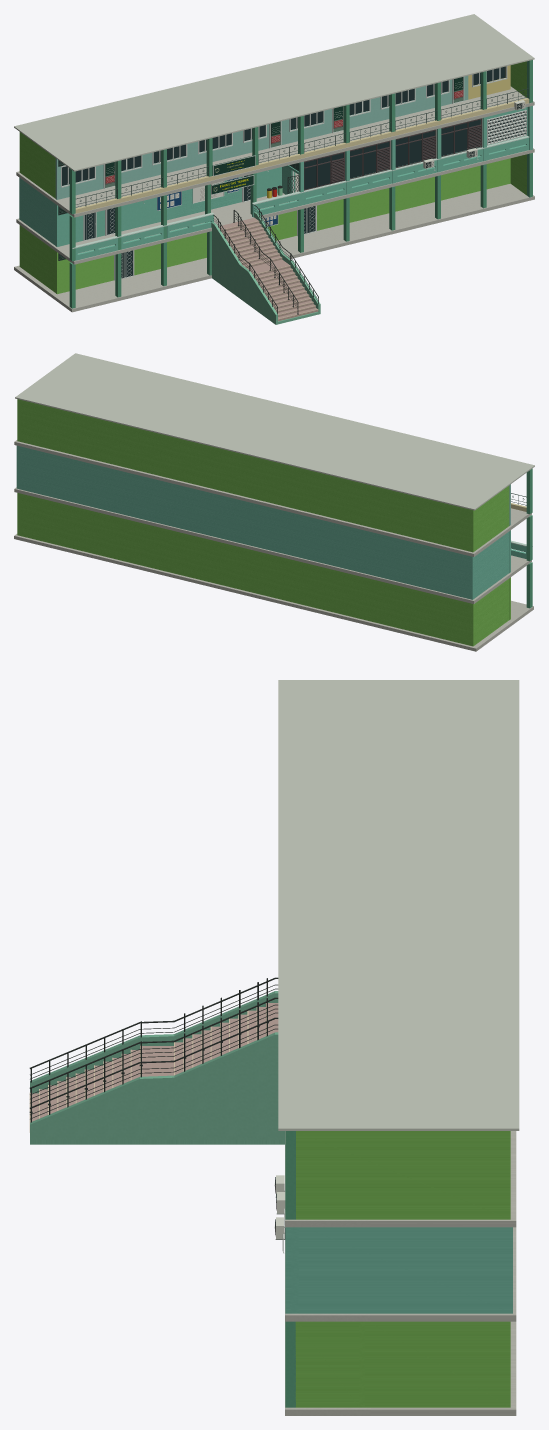
The model's file is gedung_biro_outdoor.glb.
The picture shows the model from 3 angles, top to bottom: view 1: azimuth 30°, elevation 25°; view 2: azimuth 150°, elevation 25°; view 3: azimuth 270°, elevation 25°; orthographic projection. The views are drawn at different scales.
Parts seen in each view (by area): view 1: L2_Plafon_koridor, L0_Pelat_koridor, L2_Pelat_koridor, L1_Pelat_koridor, L2_Plint_balkon_04, Tangga_Dinding_samping_-1, L0_Sambungan_dinding_10, L0_Sambungan_dinding_10.001, L1_Sambungan_dinding_10, L1_Modul_02_Dinding, L0_Modul_00_Dinding, L1_Modul_04_Dinding (+34 smaller); view 2: L2_Plafon_koridor, L1_Sambungan_dinding_10, L0_Sambungan_dinding_10, L0_Sambungan_dinding_10.001, L0_Pelat_koridor, L2_Pelat_koridor, L1_Pelat_koridor; view 3: L2_Plafon_koridor, L1_Sambungan_dinding_10, L0_Sambungan_dinding_10.001, L0_Sambungan_dinding_10, Tangga_Dinding_samping_1, L0_Pelat_koridor, L2_Pelat_koridor, Tangga_Dinding_samping_-1, L1_Pelat_koridor, L2_Kolom_10, L0_Kolom_10, Tangga_Anak_13.
Part boxes in pixels (x1,y1,x2,y2): L2_Plafon_koridor: (14,14,534,171); L0_Pelat_koridor: (14,183,534,312); L2_Pelat_koridor: (16,86,534,217); L1_Pelat_koridor: (16,118,534,264); L2_Plint_balkon_04: (75,98,529,213); Tangga_Dinding_samping_-1: (211,222,277,324); L0_Sambungan_dinding_10: (19,154,526,292); L0_Sambungan_dinding_10.001: (19,61,526,198); L1_Sambungan_dinding_10: (19,106,532,245); L1_Modul_02_Dinding: (148,177,239,224); L0_Modul_00_Dinding: (55,251,99,294); L1_Modul_04_Dinding: (239,163,299,202); L2_Plafon_koridor: (15,353,534,510); L1_Sambungan_dinding_10: (16,445,509,599); L0_Sambungan_dinding_10: (17,493,509,646); L0_Sambungan_dinding_10.001: (17,399,509,552); L0_Pelat_koridor: (14,534,533,651); L2_Pelat_koridor: (14,440,531,556); L1_Pelat_koridor: (14,487,531,603); L2_Plafon_koridor: (278,680,519,1130); L1_Sambungan_dinding_10: (285,1227,512,1313); L0_Sambungan_dinding_10.001: (296,1131,510,1219); L0_Sambungan_dinding_10: (295,1321,510,1407); Tangga_Dinding_samping_1: (30,1032,284,1144); L0_Pelat_koridor: (285,1321,516,1415); L2_Pelat_koridor: (285,1131,516,1227); Tangga_Dinding_samping_-1: (30,991,278,1093); L1_Pelat_koridor: (285,1227,516,1321); L2_Kolom_10: (285,1131,295,1219); L0_Kolom_10: (285,1321,295,1407); Tangga_Anak_13: (142,1046,173,1076).
Size of the model in its own units: 35.47 by 10.47 by 16.28.
Materials: 55 (12 with a texture image).
